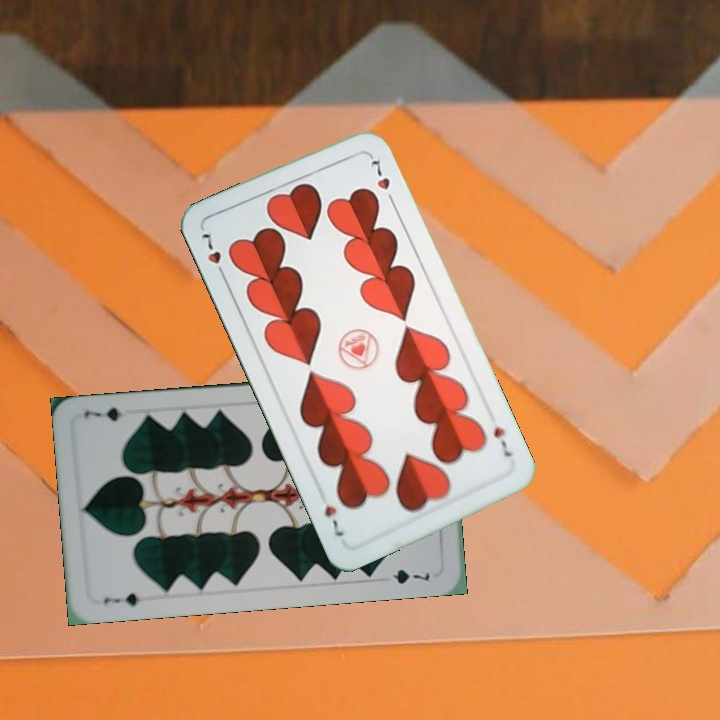G7: (99, 589, 143, 609)
H7: (197, 229, 229, 282), (489, 422, 514, 460)
